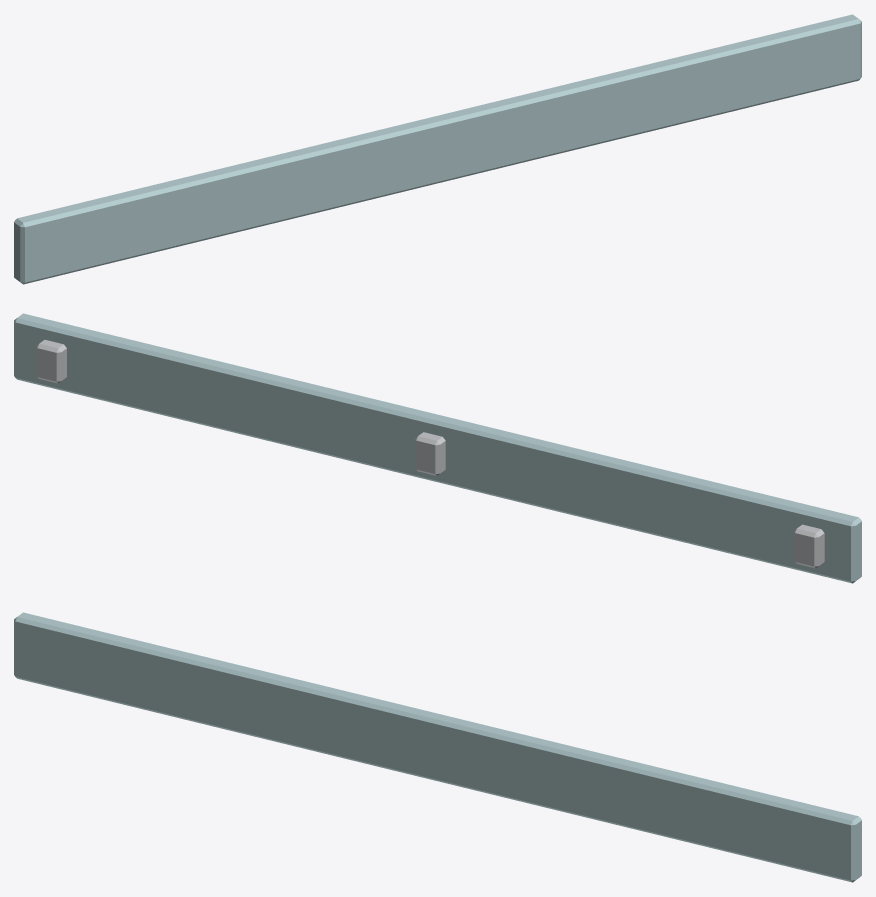
File: hand_rail_hosp.glb
The picture shows the model from 3 angles, top to bottom: view 1: azimuth 30°, elevation 25°; view 2: azimuth 150°, elevation 25°; view 3: azimuth 330°, elevation 25°; orthographic projection.
Parts seen in each view (by area): view 1: hand_rail_hosp; view 2: hand_rail_hosp; view 3: hand_rail_hosp.
Part boxes in pixels (x1=…): hand_rail_hosp: x1=14, y1=14, x2=861, y2=284; hand_rail_hosp: x1=14, y1=313, x2=861, y2=583; hand_rail_hosp: x1=14, y1=612, x2=861, y2=882.
Size of the model in its own units: 2 by 0.14 by 0.07.
